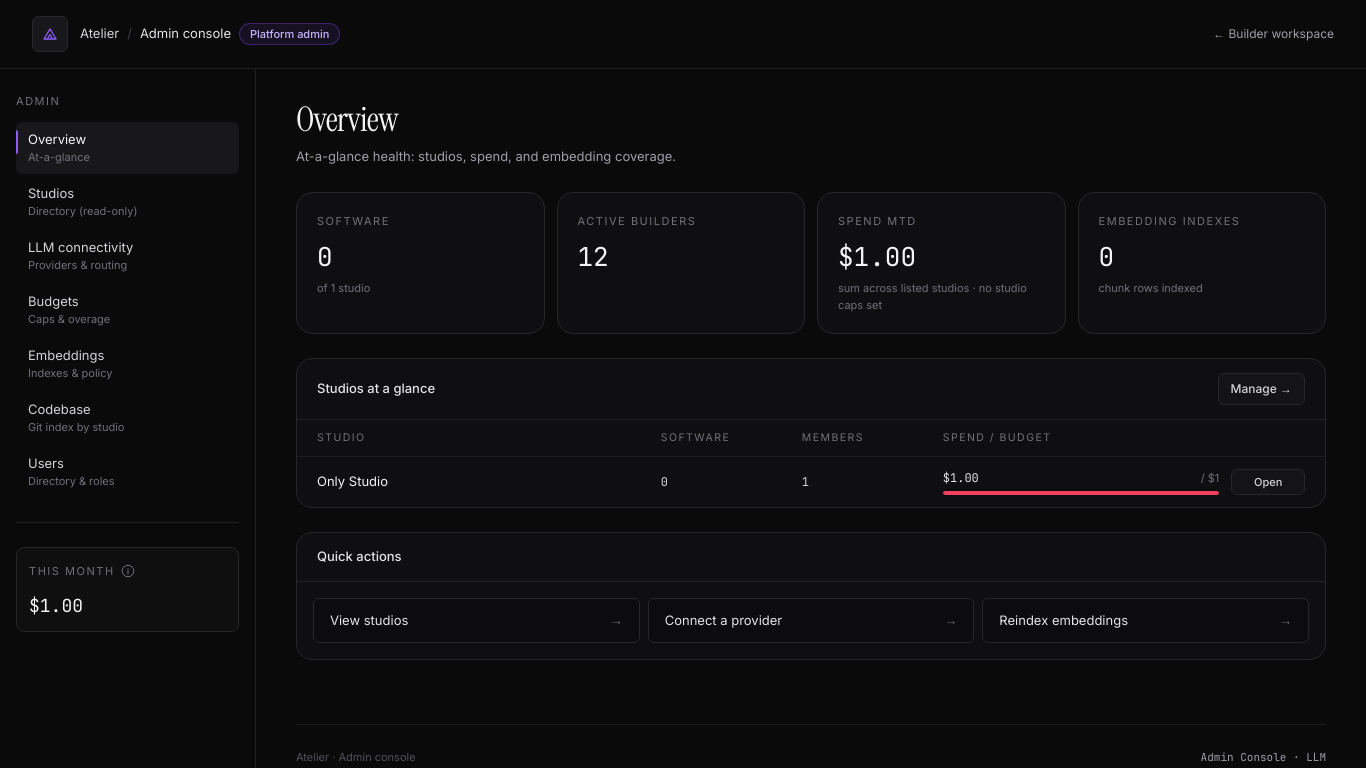
Test: AdminConsolePage › SideNav shows spend and counts from the overview API when available
Expected: the heading "Overview" is shown, [296,97,398,142]
Expected: the text "$1.00" below "This month" is shown, [29,594,83,616]
Hover over the button named "month summary details" at (128, 570), box [121,564,135,578]
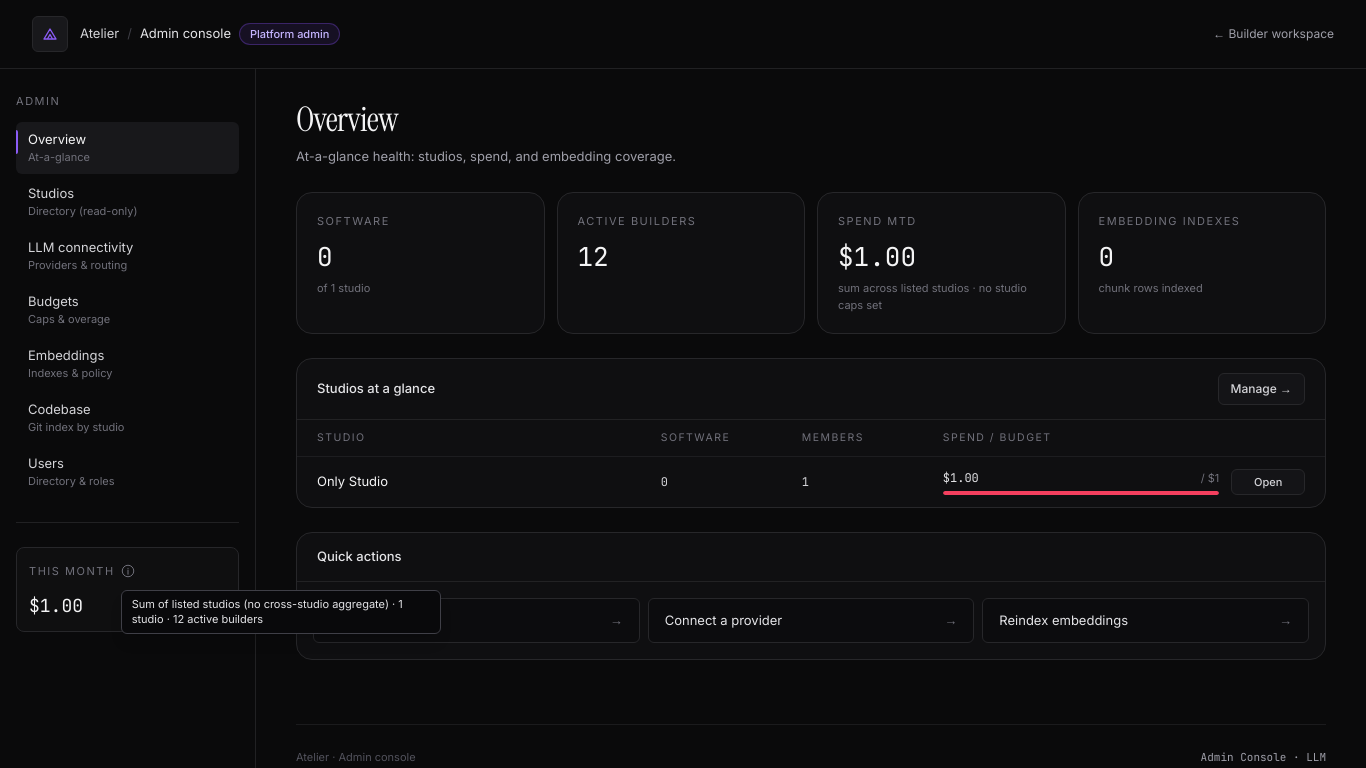
Now the tooltip named "Sum of listed studios (no cross-studio aggregate) · 1 studio · 12 active builders" is shown, box [121,590,441,634]
